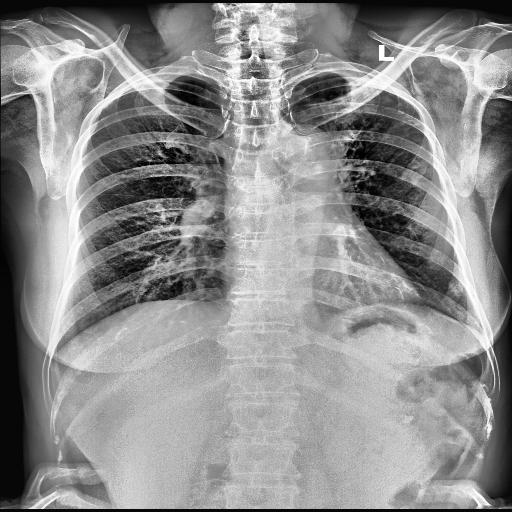0- Aortic enlargement: (270, 125, 332, 185), (272, 124, 330, 176)
11- Pleural thickening: (308, 66, 342, 80)
13- Pulmonary fibrosis: (320, 72, 424, 154), (392, 108, 422, 132)
3- Cardiomegaly: (216, 253, 422, 307)
6- Infiltration: (320, 72, 424, 154), (348, 92, 424, 136)
